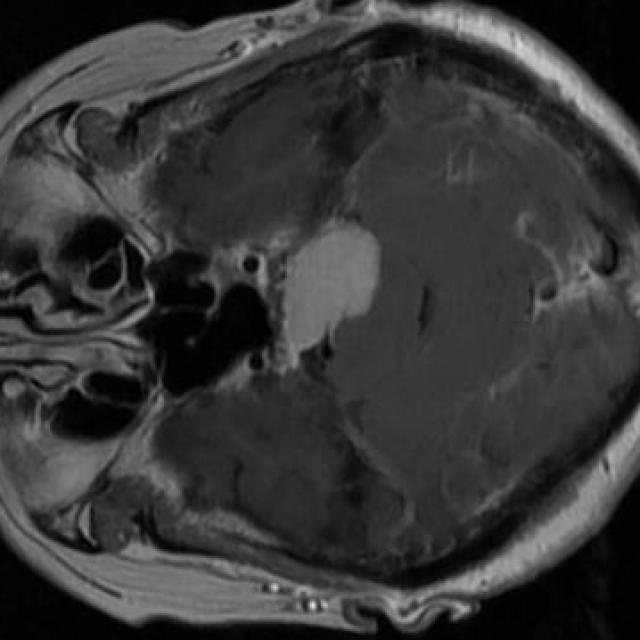meningioma: (283, 225, 382, 371)
